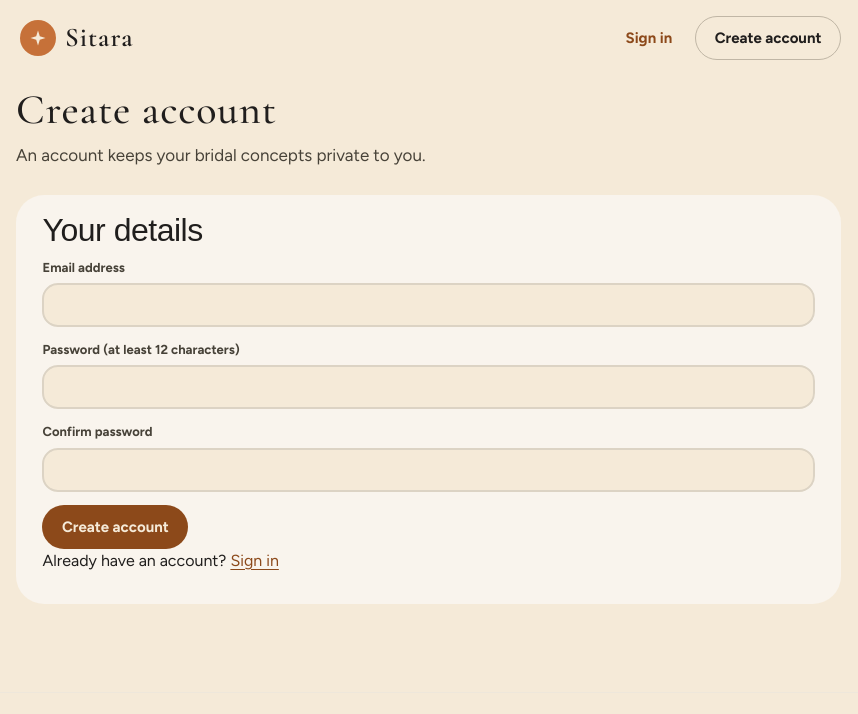
registration page › renders field-level password errors accessibly
Type "bride@example.com" into the field labelled "Email address".
click(428, 305); type("bride@example.com")  # box [42,283,814,327]
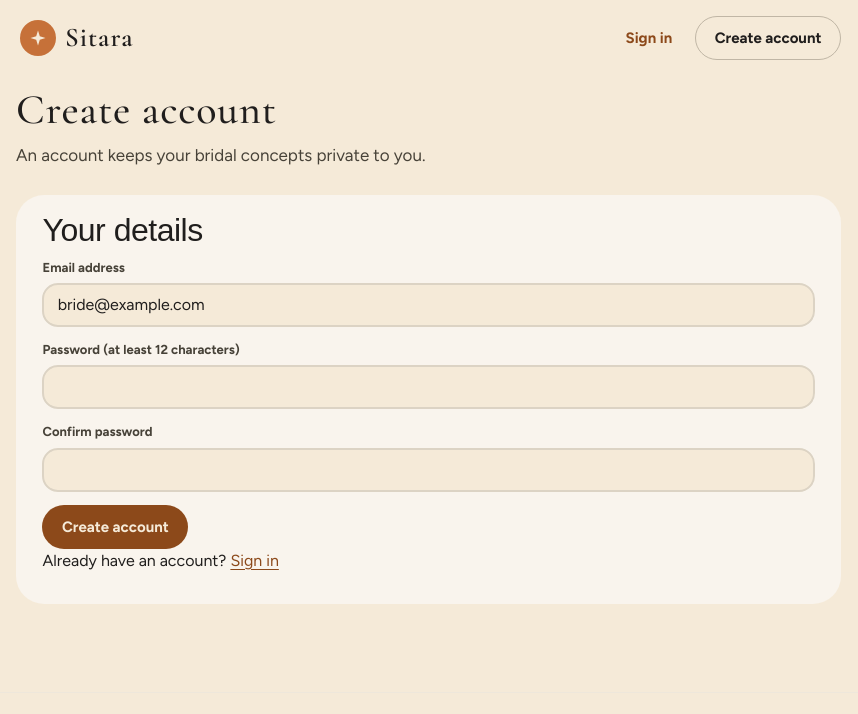
Type "short" into the password field labelled "Password (at least 12 characters)".
click(428, 387); type("short")  # box [42,365,814,409]
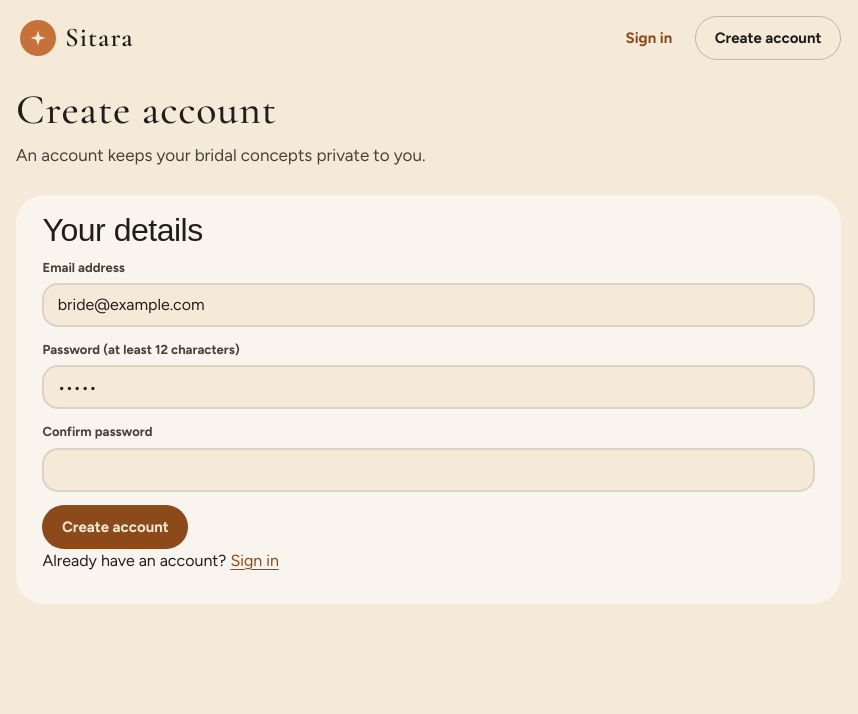
Type "short" into the password field labelled "Confirm password".
click(428, 470); type("short")  # box [42,448,814,492]
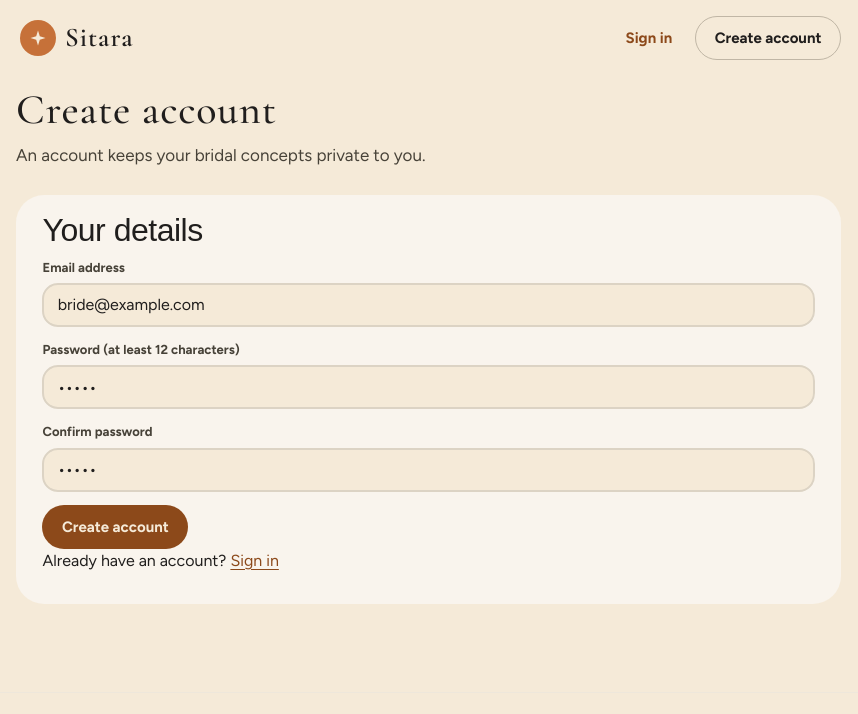
Click the button "Create account".
click(115, 527)  # box [42,505,188,549]
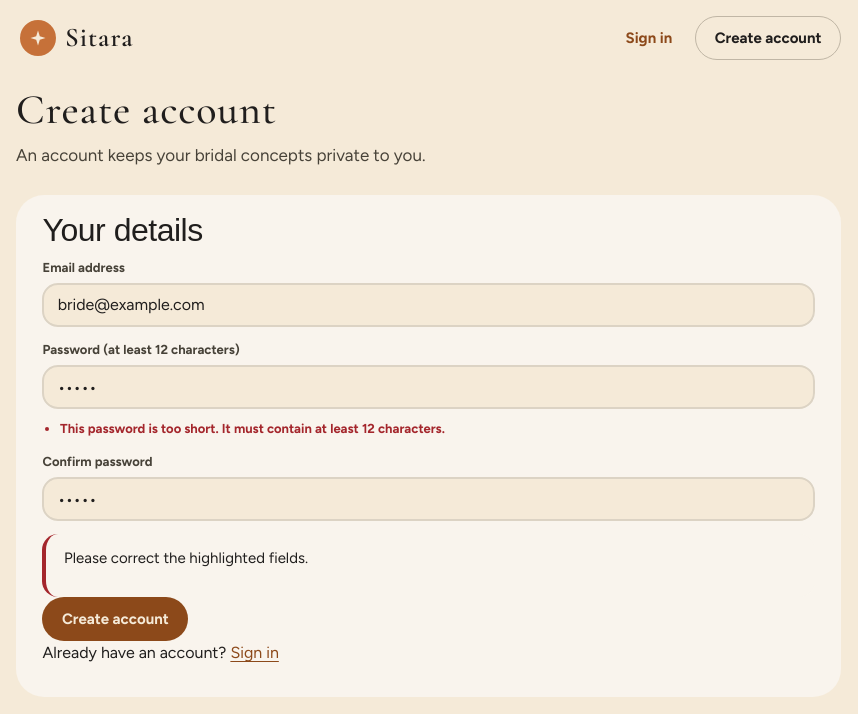
Check: the text "This password is too short. It must contain at least 12 characters." is shown, box [60,421,445,436]
